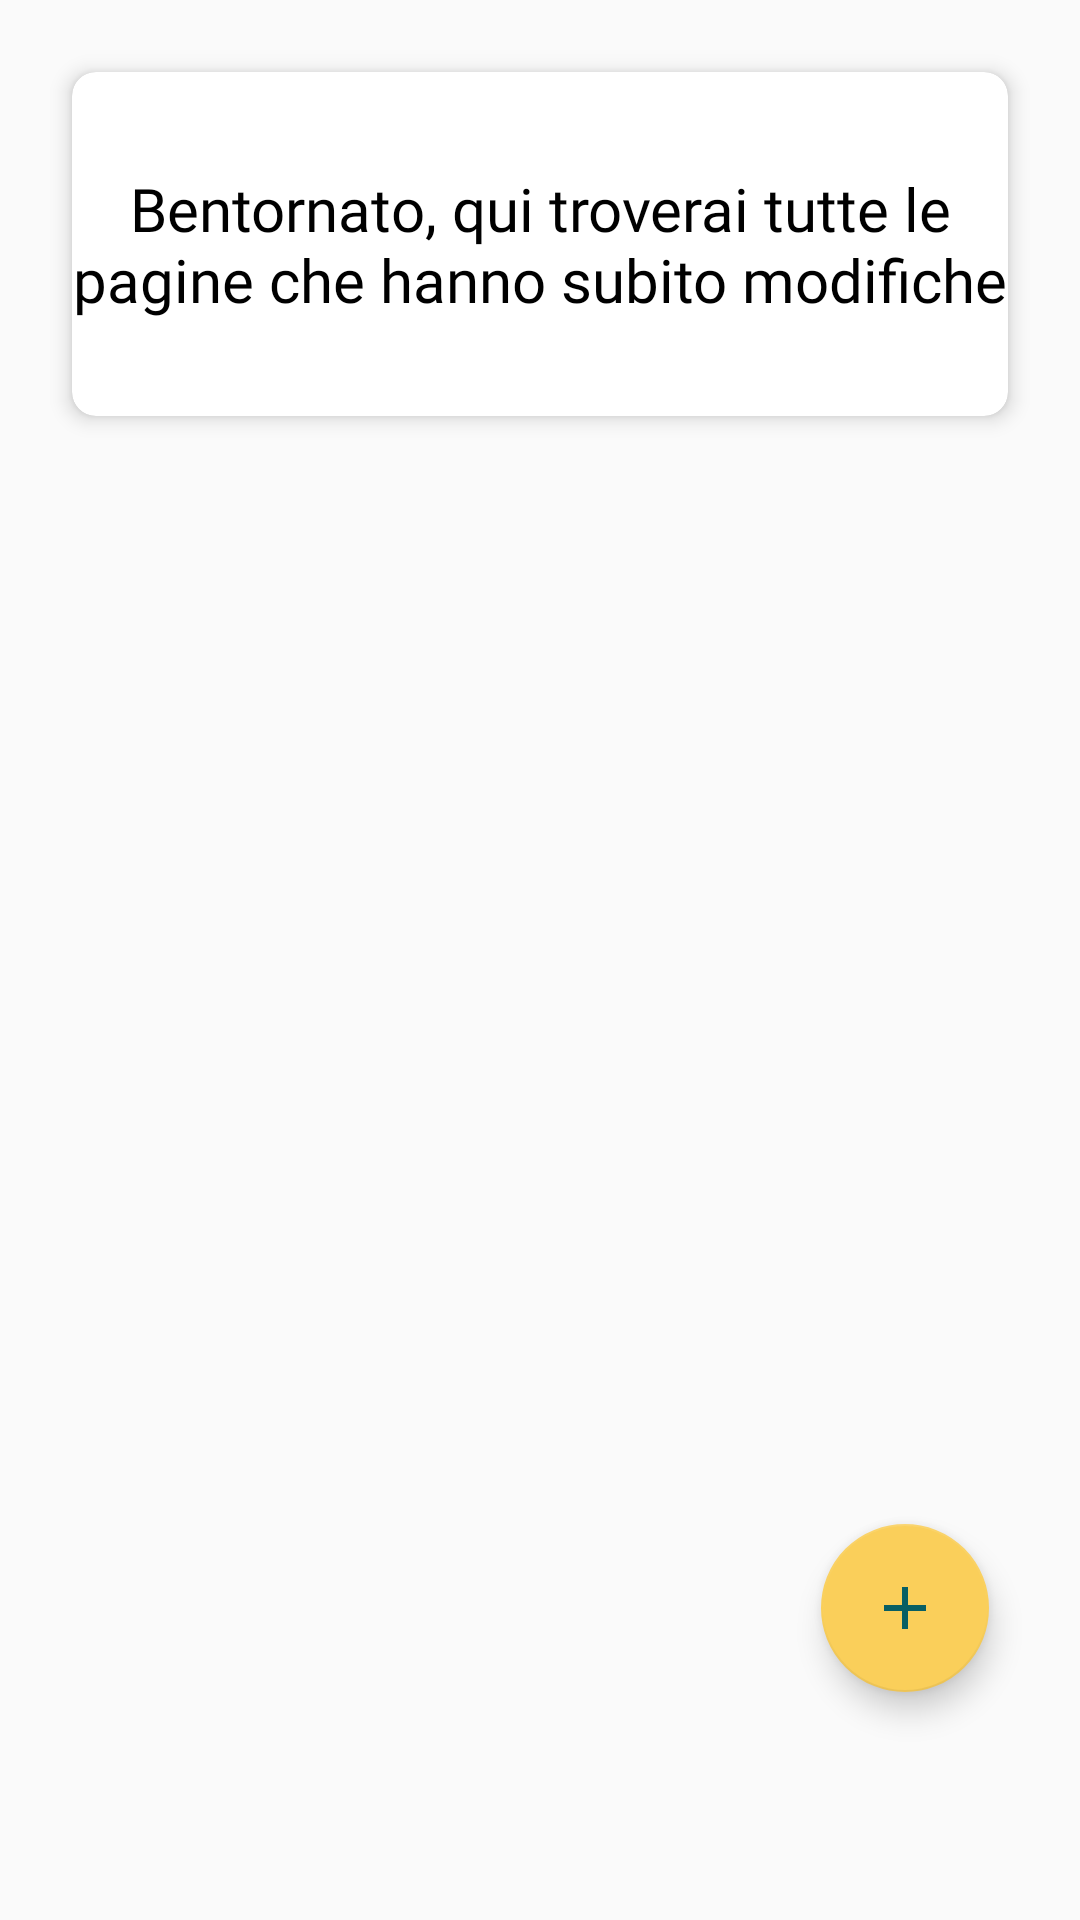

Named icons in this screenshot (1080x1920) and their centers, [x,y]:
add: [905,1608]
